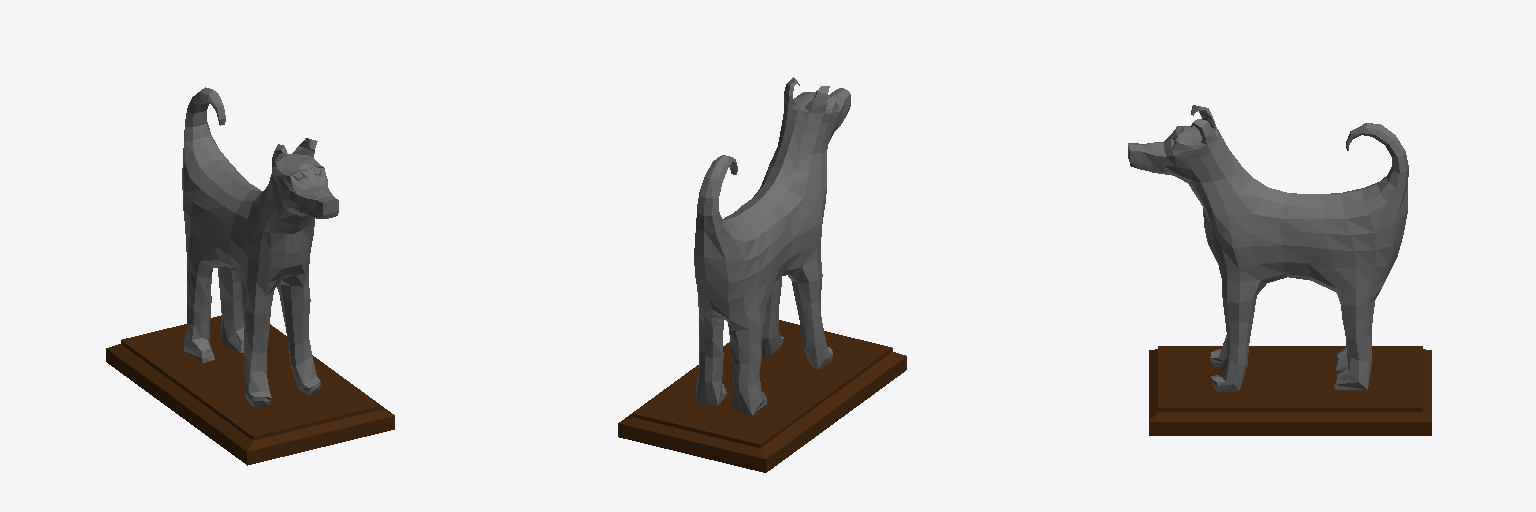
3 views of the same model, side by side, from view 1: azimuth 30°, elevation 25°; view 2: azimuth 150°, elevation 25°; view 3: azimuth 270°, elevation 25° (orthographic).
Parts seen in each view (by area): view 1: Cube; view 2: Cube; view 3: Cube.
Boxes of the visible parts, box(x1,y1,x2,y2) form: Cube: box(106, 87, 394, 465); Cube: box(618, 77, 906, 472); Cube: box(1128, 105, 1431, 435).
Size of the model in its own units: 2.39 by 4.44 by 4.25.
Materials: 1 (1 with a texture image).